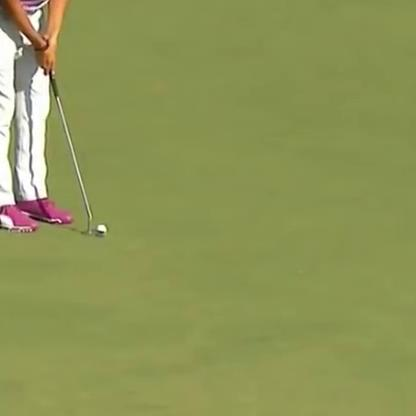golfball: (94, 219, 105, 232)
